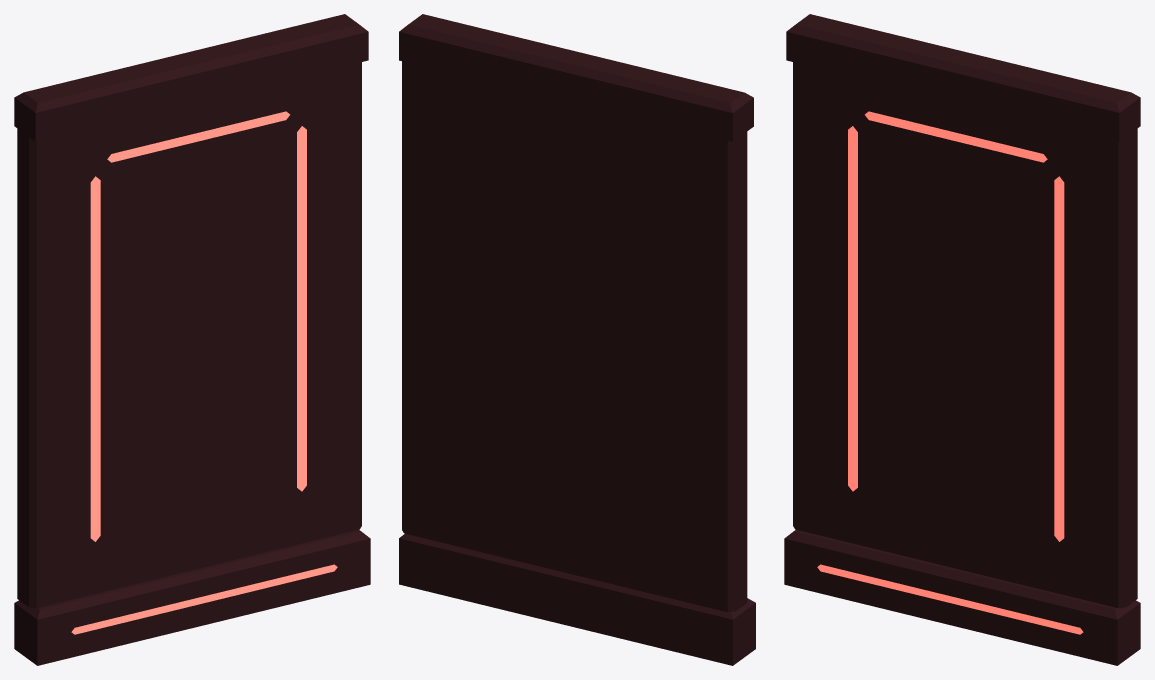
The model's file is wall_nightmare.glb.
The picture shows the model from 3 angles, left to right: view 1: azimuth 30°, elevation 25°; view 2: azimuth 150°, elevation 25°; view 3: azimuth 330°, elevation 25°; orthographic projection.
Parts seen in each view (by area): view 1: Mesh; view 2: Mesh; view 3: Mesh.
Part boxes in pixels (x1=…): Mesh: x1=14, y1=14, x2=370, y2=665; Mesh: x1=399, y1=14, x2=755, y2=665; Mesh: x1=784, y1=14, x2=1140, y2=665.
Bounding box in the file's own units: 2 × 3.2 × 0.246.
